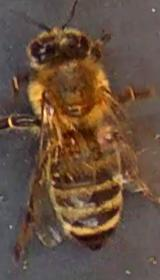varroa_mite: (54, 125, 78, 152)
